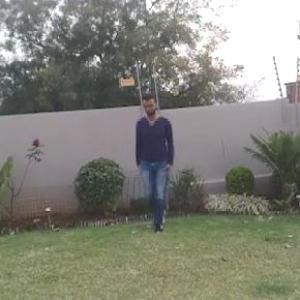follow: (128, 89, 177, 240)
